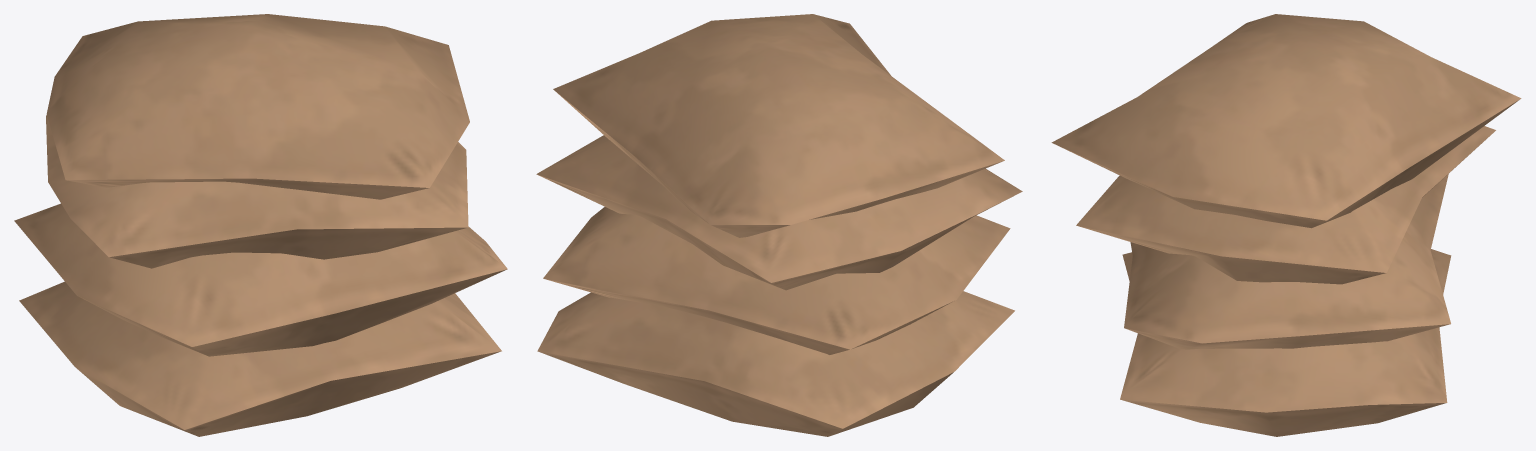
The model's file is Pfb_BagsTile__2.fbx.
The picture shows the model from 3 angles, left to right: view 1: azimuth 30°, elevation 25°; view 2: azimuth 150°, elevation 25°; view 3: azimuth 270°, elevation 25°; orthographic projection. The views are drawn at different scales.
Visible parts, largest first — view 1: Mat_Bags_01_1; view 2: Mat_Bags_01_1; view 3: Mat_Bags_01_1.
Boxes of the visible parts, left/top/right/bottom form: Mat_Bags_01_1: left=14, top=14, right=507, bottom=436; Mat_Bags_01_1: left=536, top=14, right=1022, bottom=436; Mat_Bags_01_1: left=1051, top=14, right=1521, bottom=436.
Bounding box in the file's own units: 1.3 × 1.03 × 1.3.
Materials: 1 (1 with a texture image).
